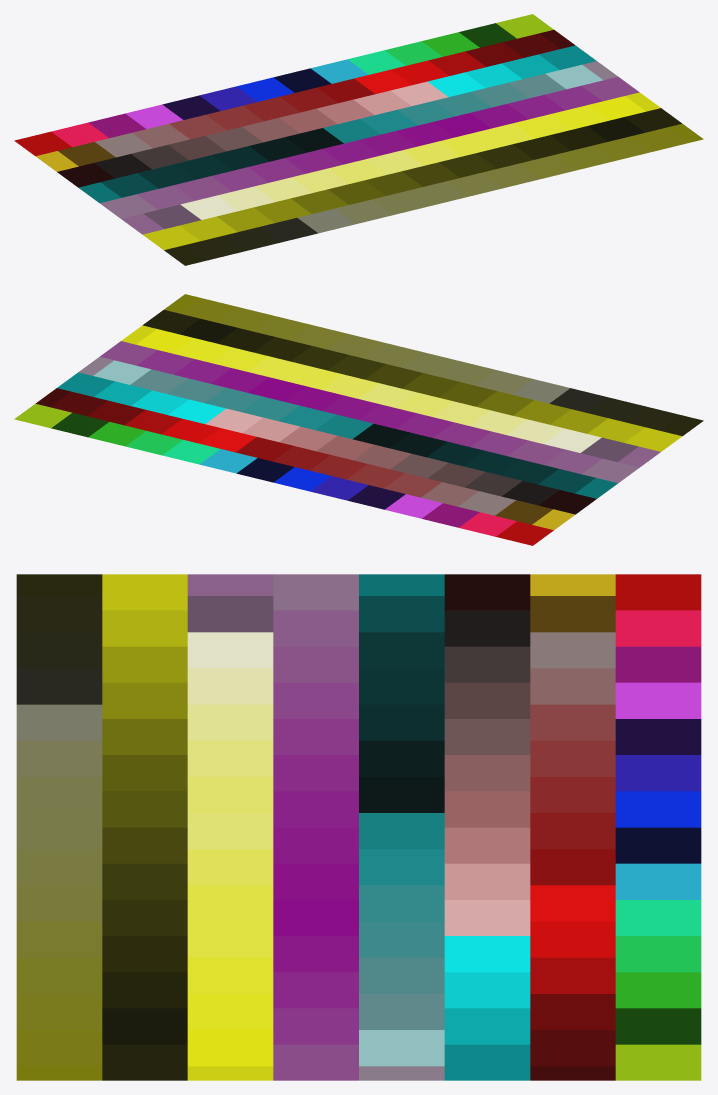
File: sss.FBX
The picture shows the model from 3 angles, top to bottom: view 1: azimuth 30°, elevation 25°; view 2: azimuth 150°, elevation 25°; view 3: azimuth 270°, elevation 25°; orthographic projection. The views are drawn at different scales.
Parts seen in each view (by area): view 1: S2_canvas_XXQ_095; view 2: S2_canvas_XXQ_095; view 3: S2_canvas_XXQ_095.
Part boxes in pixels (box(x1,y1,x2,y2)): S2_canvas_XXQ_095: box(14, 14, 703, 265); S2_canvas_XXQ_095: box(14, 294, 703, 545); S2_canvas_XXQ_095: box(16, 574, 701, 1080).
Size of the model in its own units: 700 by 3.14e-14 by 400.
